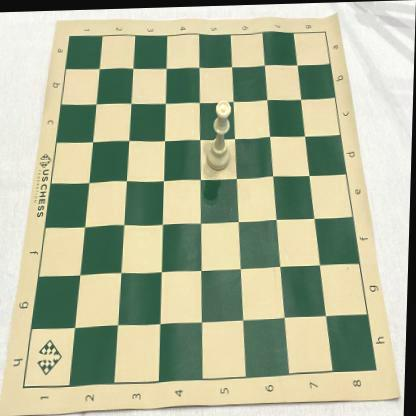white-queen: (206, 98, 234, 171)
